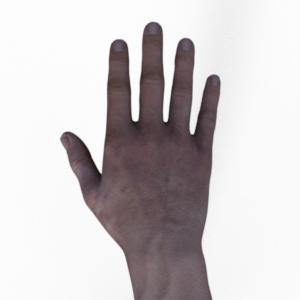paper: (61, 22, 220, 300)
